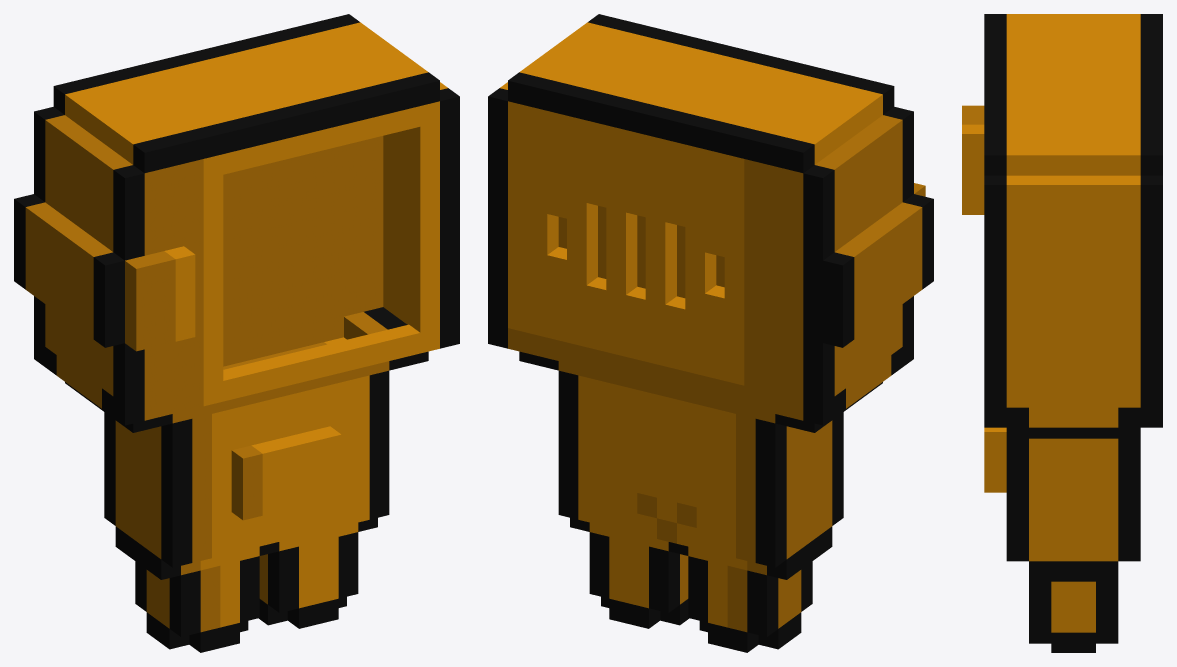
File: body_orange.glb
3 renders of one model, left to right at view 1: azimuth 30°, elevation 25°; view 2: azimuth 150°, elevation 25°; view 3: azimuth 270°, elevation 25°, orthographic.
Visible parts, largest first — view 1: bb0 body; view 2: bb0 body; view 3: bb0 body.
Boxes of the visible parts, x1,y1,x2,y2 form: bb0 body: [14, 14, 459, 652]; bb0 body: [488, 14, 933, 652]; bb0 body: [962, 14, 1162, 652].
Size of the model in its own units: 18 by 26 by 9.
